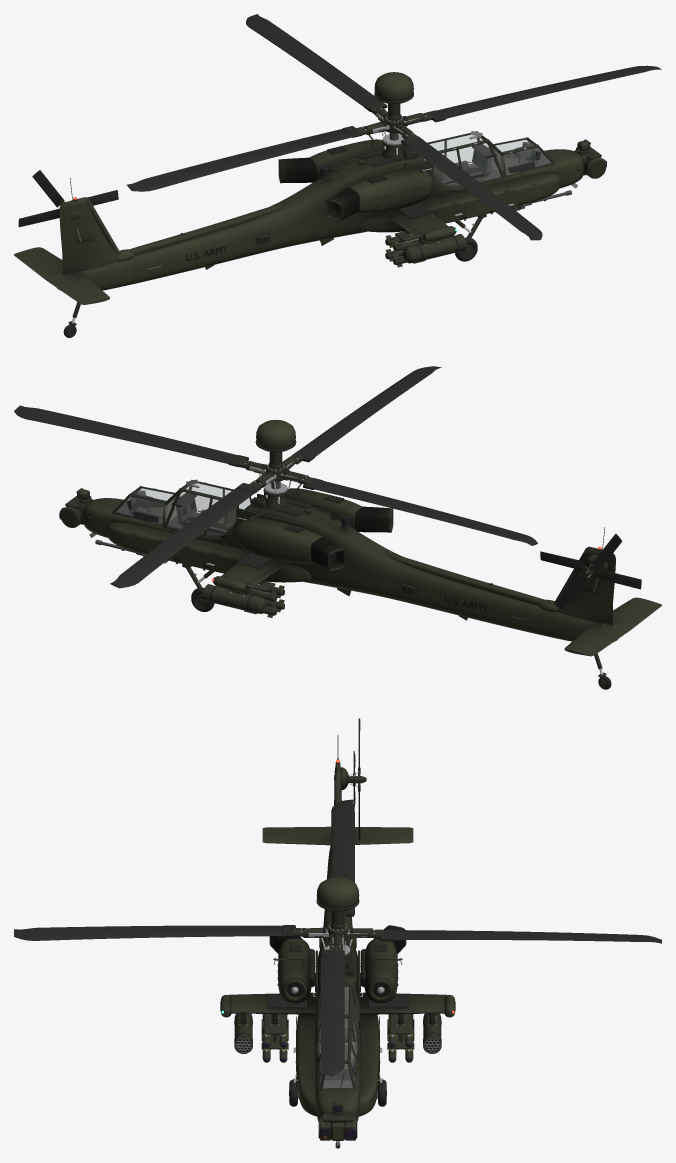
Rendered from apache.glb.
3 views of the same model, one above another, from view 1: azimuth 30°, elevation 25°; view 2: azimuth 150°, elevation 25°; view 3: azimuth 270°, elevation 25° (orthographic). The views are drawn at different scales.
Parts seen in each view (by area): view 1: body, vertical_fin, avionics_bays, main_blade2, canopy_glass, nacelle_R, main_blade1, main_blade3, stabilator, main_blade0, driveshaft_cover, nacelle (+5 smaller); view 2: body, avionics_bays, main_blade0, main_blade1, nacelle, canopy_glass, main_blade2, stabilator, main_blade3, vertical_fin, driveshaft_cover, nacelle_R (+5 smaller); view 3: avionics_bays, main_blade3, body, main_blade0, stub_wing, main_blade1, stabilator, main_blade2, nacelle_R, nacelle, fcr_radome, canopy_glass.
Boxes of the visible parts, <box> form: body: <box>57,148,584,290</box>; vertical_fin: <box>59,197,117,274</box>; avionics_bays: <box>358,160,561,232</box>; main_blade2: <box>126,129,362,191</box>; canopy_glass: <box>424,134,550,185</box>; nacelle_R: <box>348,168,431,213</box>; main_blade1: <box>246,14,380,110</box>; main_blade3: <box>401,141,542,240</box>; stabilator: <box>14,247,109,304</box>; main_blade0: <box>436,65,661,120</box>; driveshaft_cover: <box>129,203,285,254</box>; nacelle: <box>309,139,386,180</box>; body: <box>83,497,617,641</box>; avionics_bays: <box>106,512,312,582</box>; main_blade0: <box>14,405,237,466</box>; main_blade1: <box>110,487,260,588</box>; nacelle: <box>238,517,323,563</box>; canopy_glass: <box>117,483,250,535</box>; main_blade2: <box>303,481,537,545</box>; stabilator: <box>564,597,661,656</box>; main_blade3: <box>298,366,441,460</box>; vertical_fin: <box>557,546,615,624</box>; driveshaft_cover: <box>386,553,544,605</box>; nacelle_R: <box>283,488,361,529</box>; avionics_bays: <box>296,1014,379,1116</box>; main_blade3: <box>14,925,294,940</box>; body: <box>315,845,360,1121</box>; main_blade0: <box>321,951,344,1075</box>; stub_wing: <box>229,992,446,1014</box>; main_blade1: <box>381,930,661,943</box>; stabilator: <box>262,826,413,845</box>; main_blade2: <box>331,799,354,914</box>; nacelle_R: <box>278,938,311,1003</box>; nacelle: <box>364,938,397,1003</box>; fcr_radome: <box>316,877,359,911</box>; canopy_glass: <box>318,987,357,1088</box>.
Size of the model in its own units: 17.66 by 4.91 by 14.63.
Materials: 27 (3 with a texture image).
